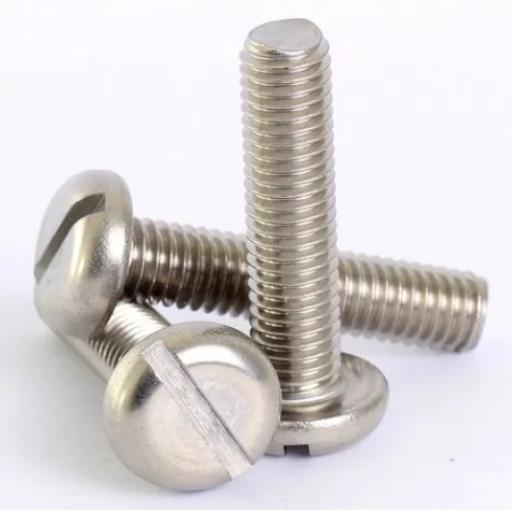Slotted: (110, 325, 278, 495)
